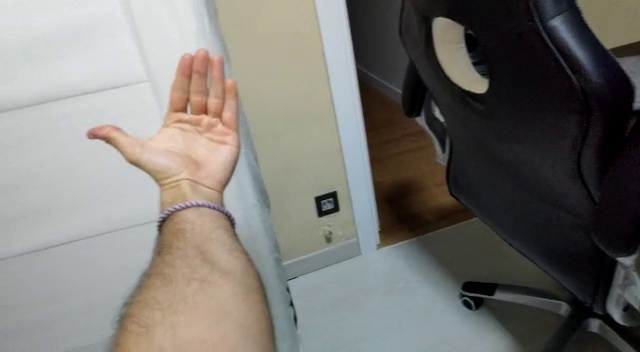Palm: (80, 44, 248, 187)
